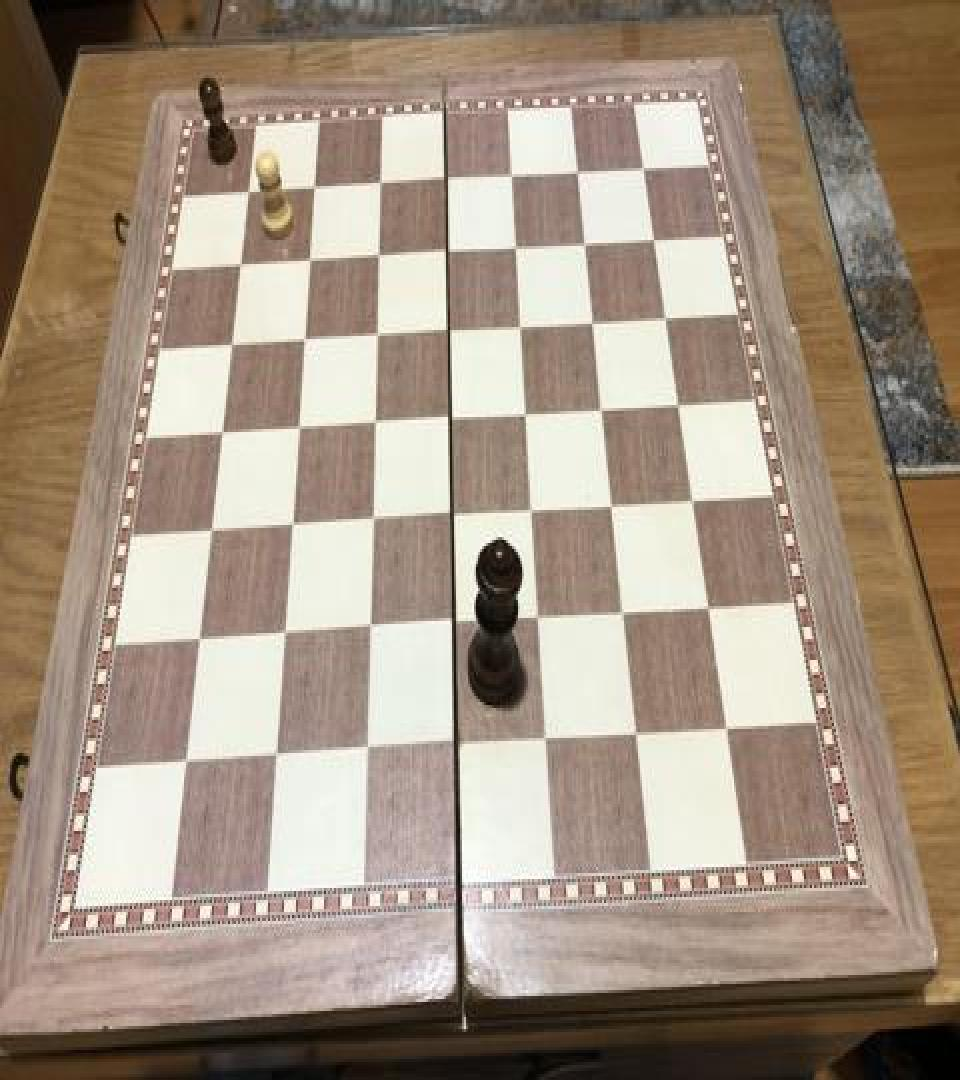xcorner: (612, 595, 636, 632), (357, 610, 381, 647), (272, 616, 296, 653), (444, 727, 468, 764), (354, 733, 378, 770), (632, 150, 656, 186), (566, 154, 590, 190), (500, 158, 524, 194), (435, 162, 459, 198), (369, 166, 393, 202), (303, 170, 327, 206), (238, 174, 262, 210), (642, 222, 666, 258), (574, 225, 598, 261), (505, 230, 529, 266), (436, 234, 460, 270), (367, 238, 391, 274), (298, 242, 322, 278), (229, 246, 253, 282), (654, 300, 678, 336), (582, 304, 606, 340), (510, 309, 534, 345), (437, 314, 461, 350), (365, 316, 389, 352), (293, 321, 317, 357), (220, 326, 244, 362), (667, 387, 691, 423), (591, 392, 615, 428), (515, 396, 539, 432), (439, 400, 463, 436), (363, 405, 387, 441), (287, 410, 311, 446), (210, 414, 234, 450), (681, 483, 705, 519), (601, 488, 625, 524), (521, 492, 545, 528), (440, 498, 464, 534), (360, 502, 384, 538), (280, 507, 304, 543), (199, 512, 223, 548), (697, 590, 721, 626), (527, 600, 551, 636), (442, 606, 466, 642), (187, 621, 211, 657), (715, 711, 739, 747), (625, 717, 649, 753), (535, 722, 559, 758), (264, 738, 288, 774), (173, 744, 197, 780)
